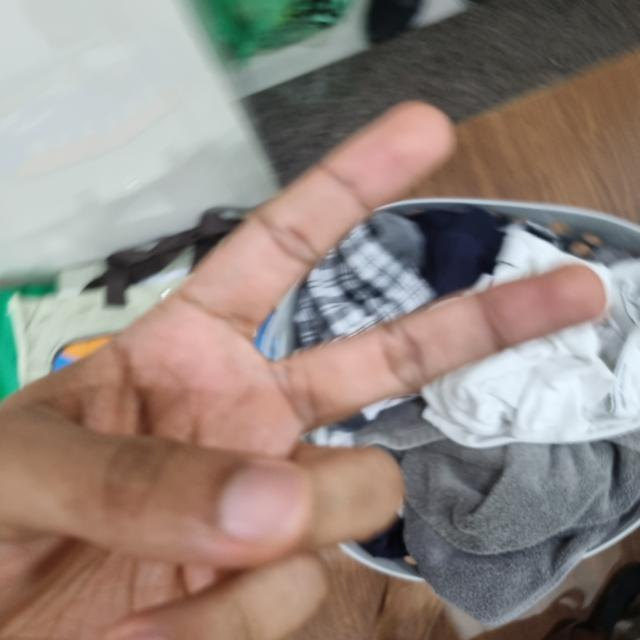Scissors: (0, 104, 606, 640)
